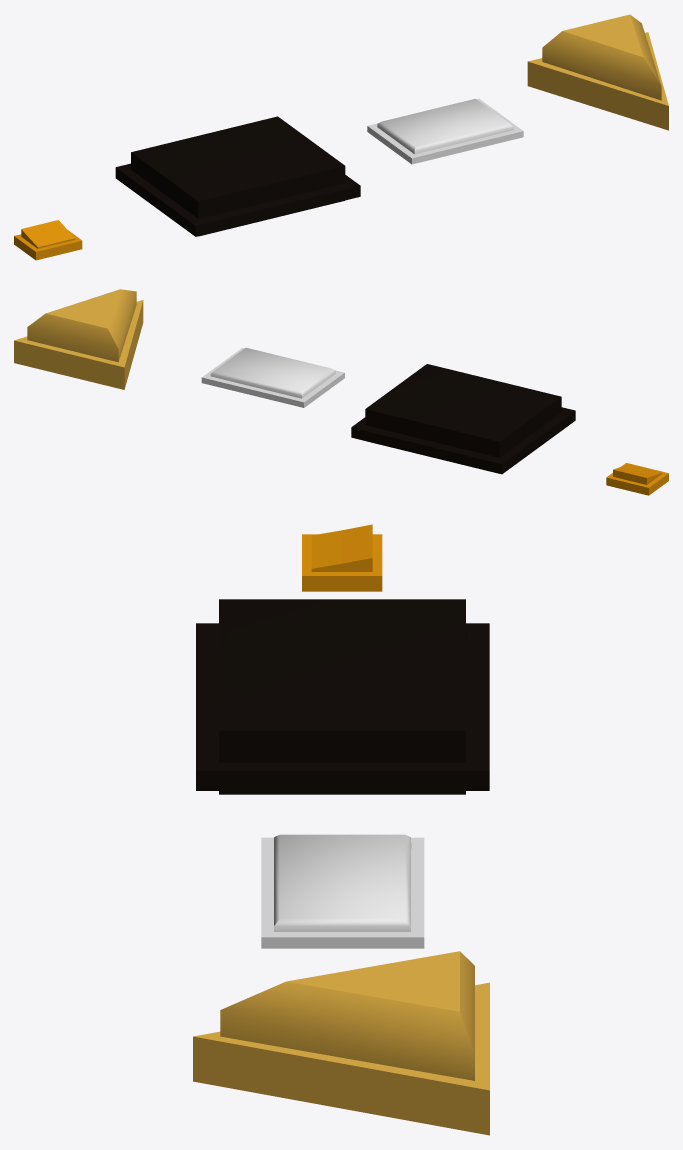
The model's file is Buttons.fbx.
3 renders of one model, top to bottom at view 1: azimuth 30°, elevation 25°; view 2: azimuth 150°, elevation 25°; view 3: azimuth 270°, elevation 25°, orthographic. The views are drawn at different scales.
Visible parts, largest first — view 1: Button.002, Cube.002, ButtonOutline.001, Cube.042, Button.001, SimpleFlipButton, ButtonOutline; view 2: Button.002, Cube.002, ButtonOutline.001, Cube.042, Button.001, ButtonOutline, SimpleFlipButton; view 3: Button.002, Cube.002, Cube.042, ButtonOutline.001, Button.001, ButtonOutline, SimpleFlipButton.
Part boxes in pixels (x1,y1,x2,y2): Button.002: (131, 116, 345, 236); Cube.002: (542, 14, 661, 100); ButtonOutline.001: (115, 163, 360, 236); Cube.042: (527, 32, 668, 130); Button.001: (377, 98, 513, 154); SimpleFlipButton: (14, 220, 82, 260); ButtonOutline: (367, 98, 523, 164); Button.002: (365, 364, 561, 457); Cube.002: (27, 289, 136, 362); ButtonOutline.001: (351, 407, 575, 474); Cube.042: (14, 300, 143, 389); Button.001: (210, 347, 335, 398); ButtonOutline: (201, 347, 344, 407); SimpleFlipButton: (606, 463, 668, 495); Button.002: (219, 599, 465, 794); Cube.002: (220, 951, 474, 1080); Cube.042: (193, 982, 489, 1135); ButtonOutline.001: (196, 623, 489, 790); Button.001: (274, 834, 410, 931); ButtonOutline: (261, 837, 424, 948); SimpleFlipButton: (302, 524, 382, 591).
Size of the model in its own units: 2.06 by 0.1746 by 0.4344.
